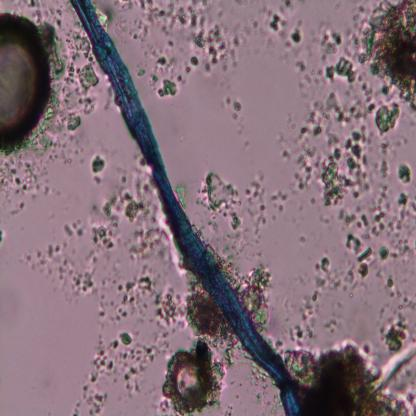Background material: (282, 87, 414, 183), (312, 184, 416, 293), (287, 342, 416, 416), (80, 173, 170, 262), (72, 331, 158, 416), (193, 167, 269, 246), (363, 0, 416, 113), (16, 241, 99, 302), (183, 273, 236, 355), (93, 267, 156, 322), (57, 64, 98, 131), (193, 27, 241, 78), (0, 156, 46, 204), (245, 358, 283, 416), (128, 0, 170, 44), (167, 0, 214, 38), (342, 3, 370, 65), (244, 258, 267, 328), (37, 22, 64, 77), (156, 285, 186, 334), (207, 348, 230, 411), (378, 310, 410, 352), (66, 21, 93, 65), (317, 20, 342, 62), (298, 65, 327, 96), (222, 94, 243, 134), (299, 288, 322, 322), (112, 0, 128, 44), (286, 322, 315, 345), (336, 57, 358, 87), (90, 151, 108, 187), (154, 49, 175, 78), (42, 139, 63, 163), (61, 216, 85, 236), (271, 188, 290, 212), (158, 79, 179, 99), (282, 41, 298, 66), (268, 11, 284, 34), (174, 182, 187, 210), (95, 0, 109, 26), (224, 345, 240, 367), (154, 398, 172, 416), (10, 202, 28, 218), (291, 26, 304, 48), (325, 315, 339, 335), (53, 4, 64, 25), (359, 75, 371, 94), (400, 299, 416, 312), (105, 83, 113, 109), (326, 67, 338, 83), (0, 226, 7, 248), (149, 72, 159, 87), (297, 58, 307, 71), (319, 216, 331, 226), (225, 403, 234, 416), (178, 72, 186, 85), (30, 0, 41, 9), (165, 38, 174, 48), (190, 56, 199, 66), (62, 157, 73, 165), (137, 67, 145, 78), (280, 32, 288, 40), (309, 195, 315, 205), (44, 186, 50, 196), (300, 236, 306, 244), (186, 65, 192, 73), (76, 148, 83, 154), (285, 0, 291, 7), (244, 141, 250, 148), (350, 294, 354, 298)
Cotton: (69, 0, 301, 416)
Diatom: (0, 12, 58, 146), (168, 347, 206, 412)
